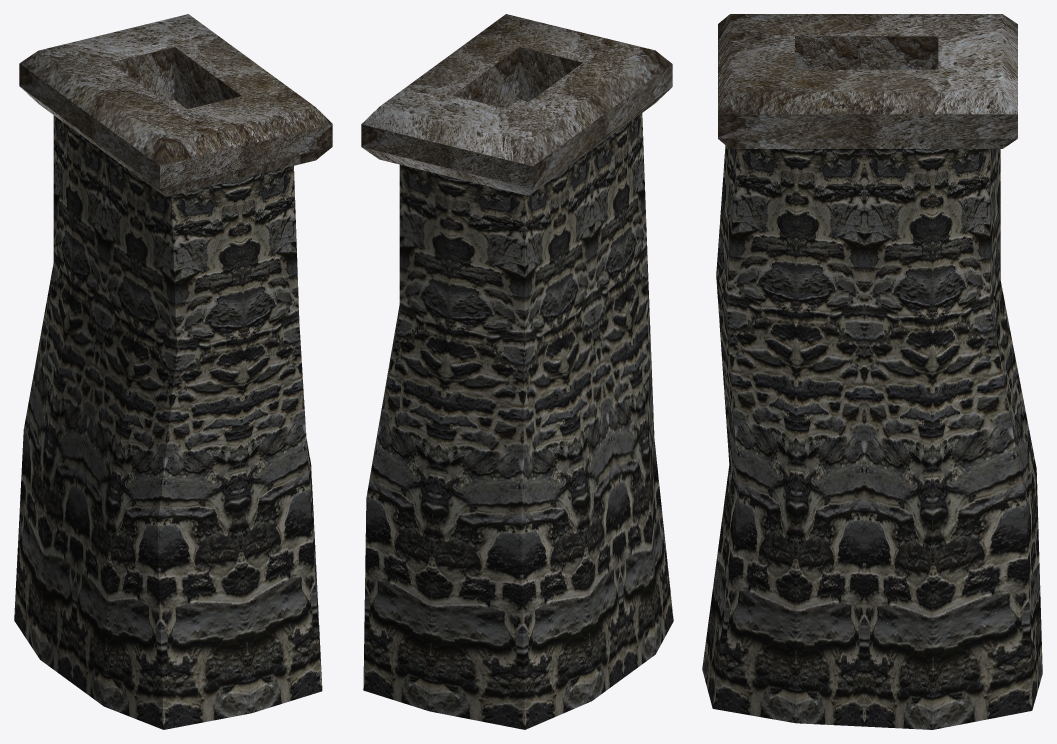
The model's file is ex_nord_chimney_01.obj.
3 renders of one model, left to right at view 1: azimuth 30°, elevation 25°; view 2: azimuth 150°, elevation 25°; view 3: azimuth 270°, elevation 25°, orthographic. The views are drawn at different scales.
Visible parts, largest first — view 1: nifid_1-matrix_Tri_Ex_nord_chimney_01_0-lib, nifid_6-matrix_Tri_Ex_nord_chimney_01_1-lib, nifid_11-matrix_Tri_Ex_nord_chimney_01_2-lib, nifid_16-matrix_Tri_Ex_nord_chimney_01_3-lib; view 2: nifid_6-matrix_Tri_Ex_nord_chimney_01_1-lib, nifid_1-matrix_Tri_Ex_nord_chimney_01_0-lib, nifid_11-matrix_Tri_Ex_nord_chimney_01_2-lib, nifid_16-matrix_Tri_Ex_nord_chimney_01_3-lib; view 3: nifid_1-matrix_Tri_Ex_nord_chimney_01_0-lib, nifid_11-matrix_Tri_Ex_nord_chimney_01_2-lib, nifid_16-matrix_Tri_Ex_nord_chimney_01_3-lib, nifid_6-matrix_Tri_Ex_nord_chimney_01_1-lib.
Part boxes in pixels (box(x1,y1,x2,y2)): nifid_1-matrix_Tri_Ex_nord_chimney_01_0-lib: box(104, 175, 322, 729); nifid_6-matrix_Tri_Ex_nord_chimney_01_1-lib: box(14, 115, 322, 713); nifid_11-matrix_Tri_Ex_nord_chimney_01_2-lib: box(40, 129, 135, 706); nifid_16-matrix_Tri_Ex_nord_chimney_01_3-lib: box(19, 14, 332, 196); nifid_6-matrix_Tri_Ex_nord_chimney_01_1-lib: box(363, 164, 591, 729); nifid_1-matrix_Tri_Ex_nord_chimney_01_0-lib: box(367, 113, 673, 729); nifid_11-matrix_Tri_Ex_nord_chimney_01_2-lib: box(560, 127, 655, 700); nifid_16-matrix_Tri_Ex_nord_chimney_01_3-lib: box(361, 14, 672, 195); nifid_1-matrix_Tri_Ex_nord_chimney_01_0-lib: box(712, 149, 1032, 729); nifid_11-matrix_Tri_Ex_nord_chimney_01_2-lib: box(796, 149, 932, 729); nifid_16-matrix_Tri_Ex_nord_chimney_01_3-lib: box(718, 14, 1017, 148); nifid_6-matrix_Tri_Ex_nord_chimney_01_1-lib: box(702, 145, 1042, 709).
Size of the model in its own units: 1.93 by 4.83 by 2.42.
